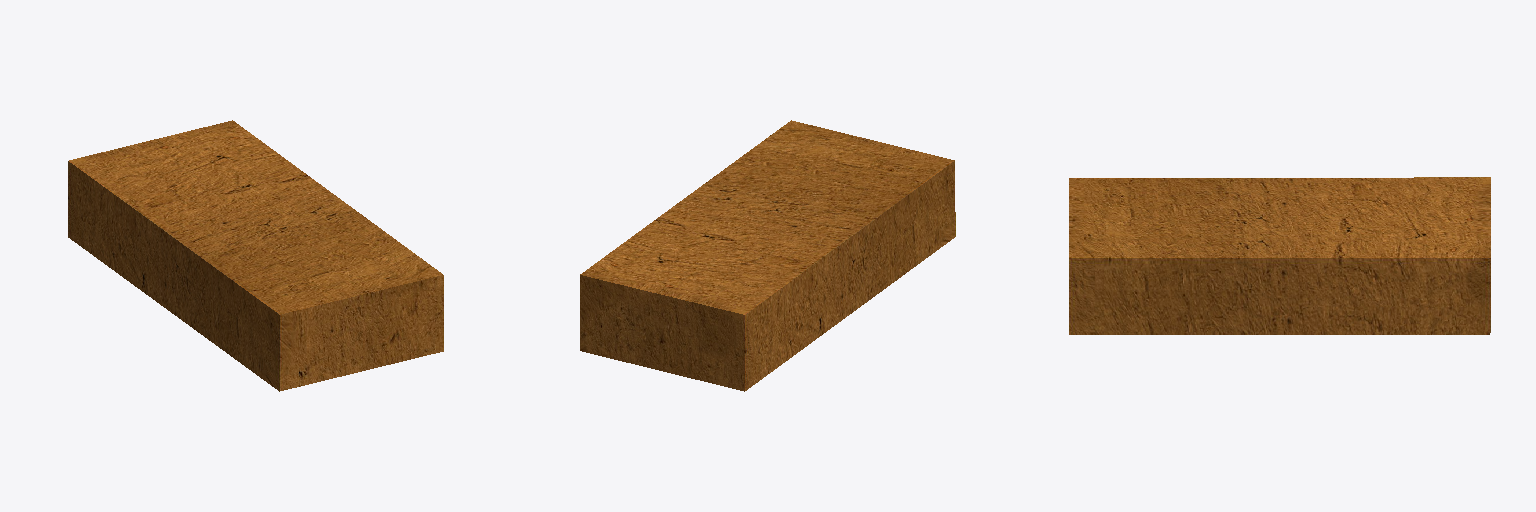
The picture shows the model from 3 angles: view 1: azimuth 30°, elevation 25°; view 2: azimuth 150°, elevation 25°; view 3: azimuth 270°, elevation 25°; orthographic projection.
Parts seen in each view (by area): view 1: brick01c; view 2: brick01c; view 3: brick01c.
Part boxes in pixels (left/top/right/bottom): brick01c: left=68, top=120, right=443, bottom=391; brick01c: left=580, top=120, right=955, bottom=391; brick01c: left=1069, top=177, right=1490, bottom=334.
Bounding box in the file's own units: 9.03 × 4 × 19.99.
Materials: 1 (1 with a texture image).